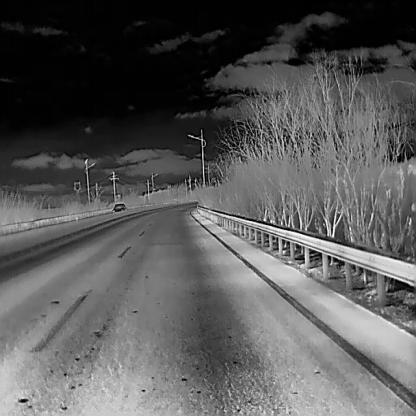car: (112, 202, 125, 212)
